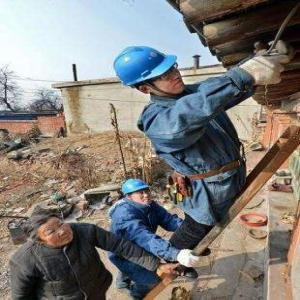blue: (113, 45, 187, 96), (119, 178, 155, 208)
none: (26, 211, 77, 249)
